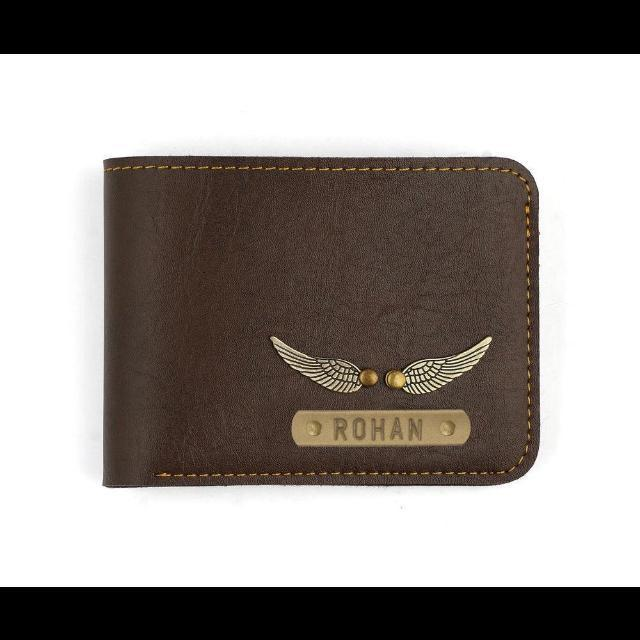wallet: (95, 152, 541, 488)
